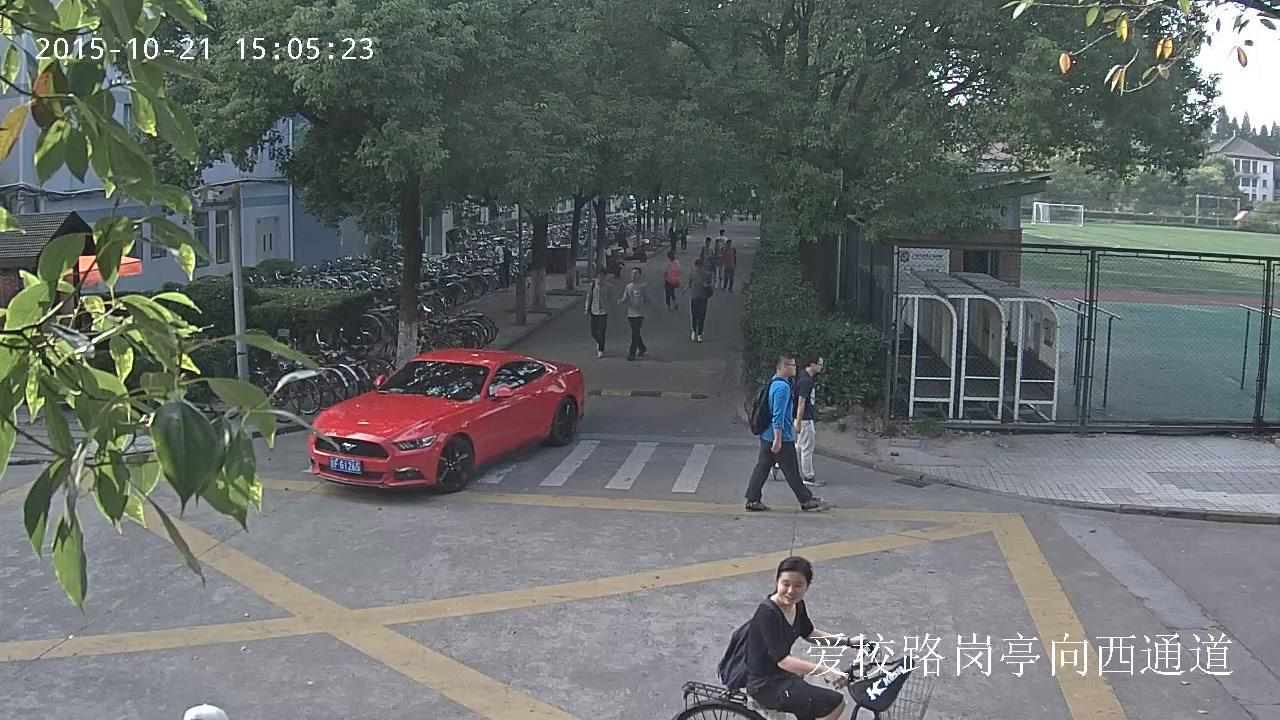person: (666, 555, 933, 720), (717, 555, 868, 720), (742, 349, 823, 511), (767, 349, 825, 487), (614, 267, 660, 360), (681, 259, 714, 343), (584, 270, 615, 357), (659, 251, 682, 310), (720, 239, 738, 291), (494, 238, 511, 285), (714, 229, 727, 287), (615, 225, 629, 251), (699, 237, 713, 261), (668, 224, 678, 256), (680, 222, 687, 252)
